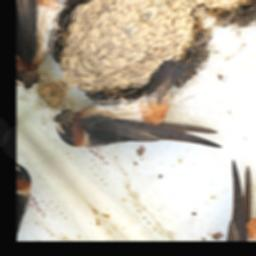Swallow: (47, 44, 230, 221)
